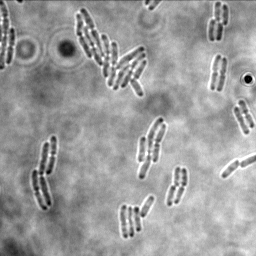Dividing: (174, 167, 189, 205), (237, 99, 255, 129), (208, 54, 222, 91), (216, 56, 228, 93), (6, 27, 17, 65)
Microcolony: (75, 7, 147, 99), (136, 117, 168, 181), (31, 135, 57, 212), (119, 195, 155, 239), (207, 1, 229, 43)
Rod: (232, 106, 251, 136), (221, 157, 240, 179), (166, 184, 177, 207), (173, 166, 183, 188)
